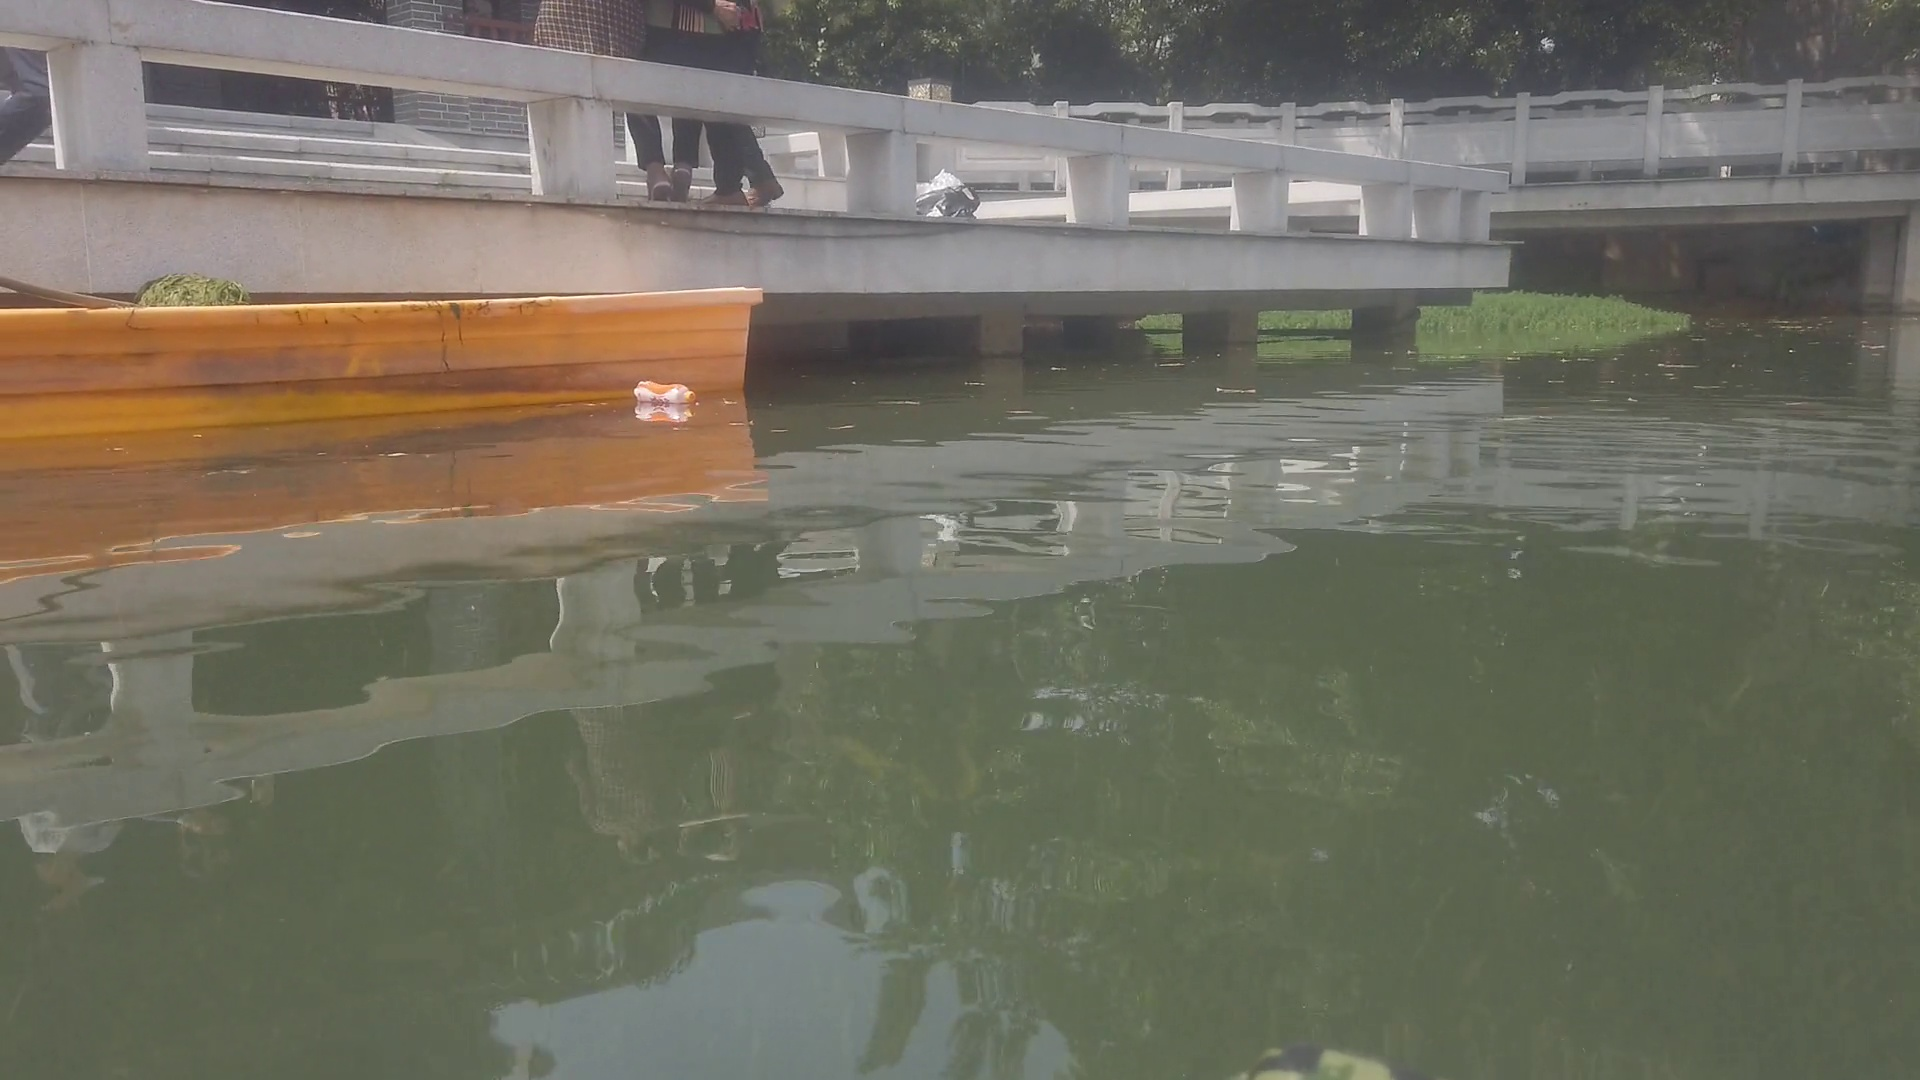bottle: (633, 376, 699, 407)
